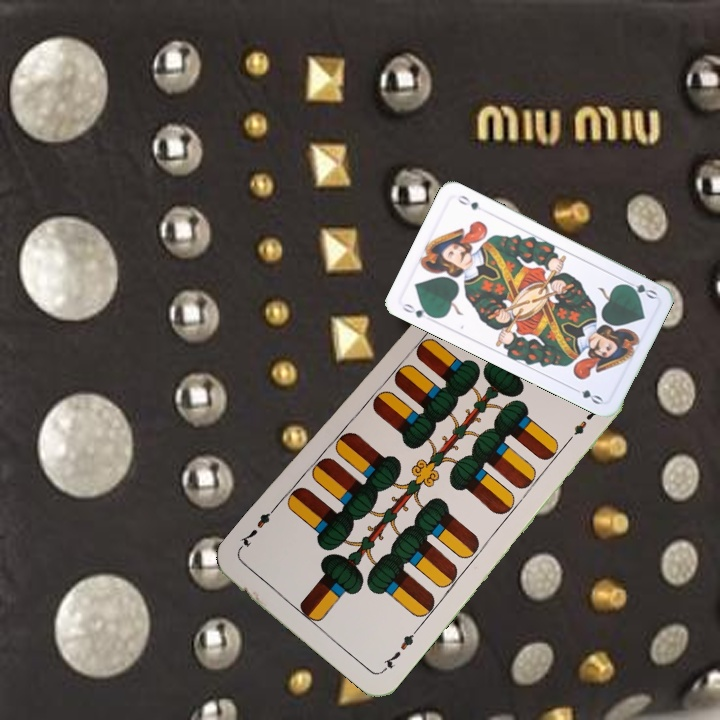E7: (378, 625, 420, 674)
GO: (619, 276, 659, 302), (398, 299, 438, 321)
